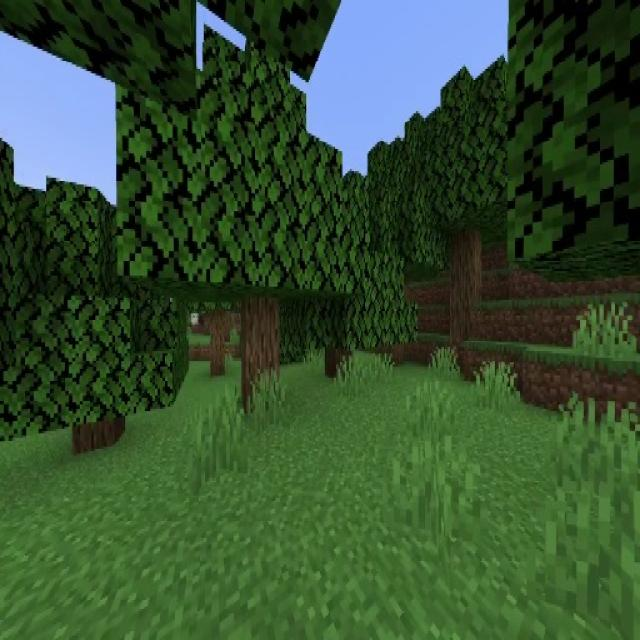oak: (120, 0, 358, 412), (0, 175, 192, 453), (409, 67, 512, 349)
oak_log: (243, 302, 280, 408), (450, 239, 481, 348), (211, 314, 225, 376), (325, 350, 349, 379)
